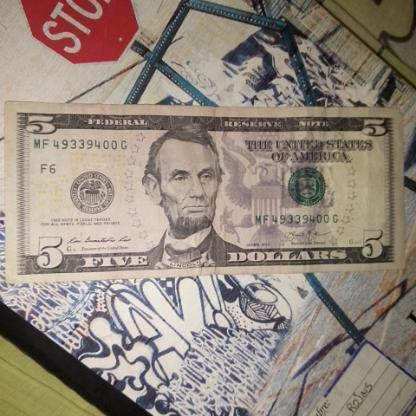five-front: (0, 100, 406, 276)
